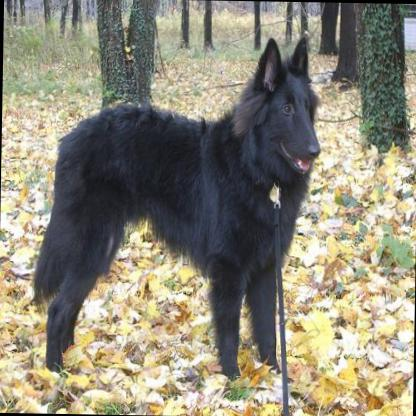groenendael: (30, 28, 322, 380)
